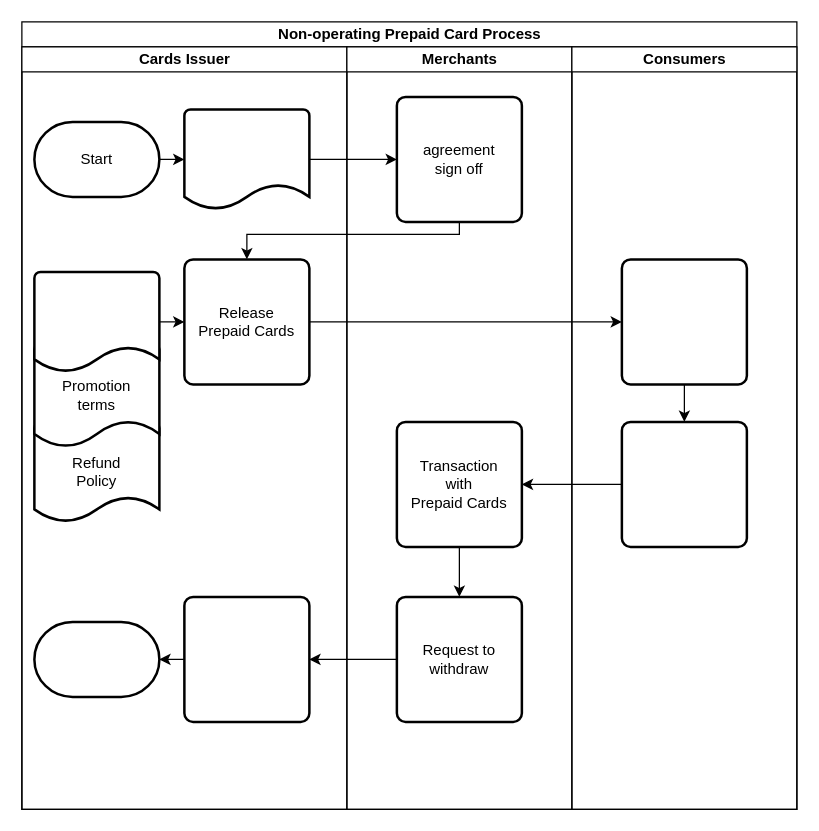
Some shapes in this 819 by 831 pixel diagram are drawn without their labels. The centre of each missing label's shape, as x and y in pixels:
"Buy Prepaid Cards with agreement" belongs at (x=684, y=321).
"Consume with Prepaid Cards" belongs at (x=684, y=484).
"End" belongs at (x=96, y=659).
"Prepaid Cards Agreement for Consumers" belongs at (x=96, y=321).
"Prepaid Cards Agreement for Merchants" belongs at (x=246, y=159).
"Withdraw to merchants" belongs at (x=246, y=658).
